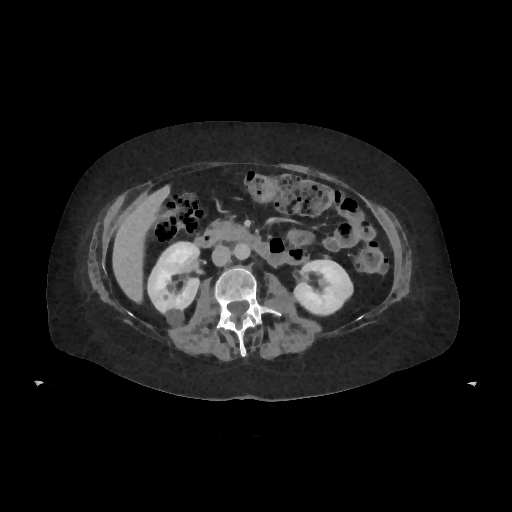Lesion: (159, 306, 188, 328)
